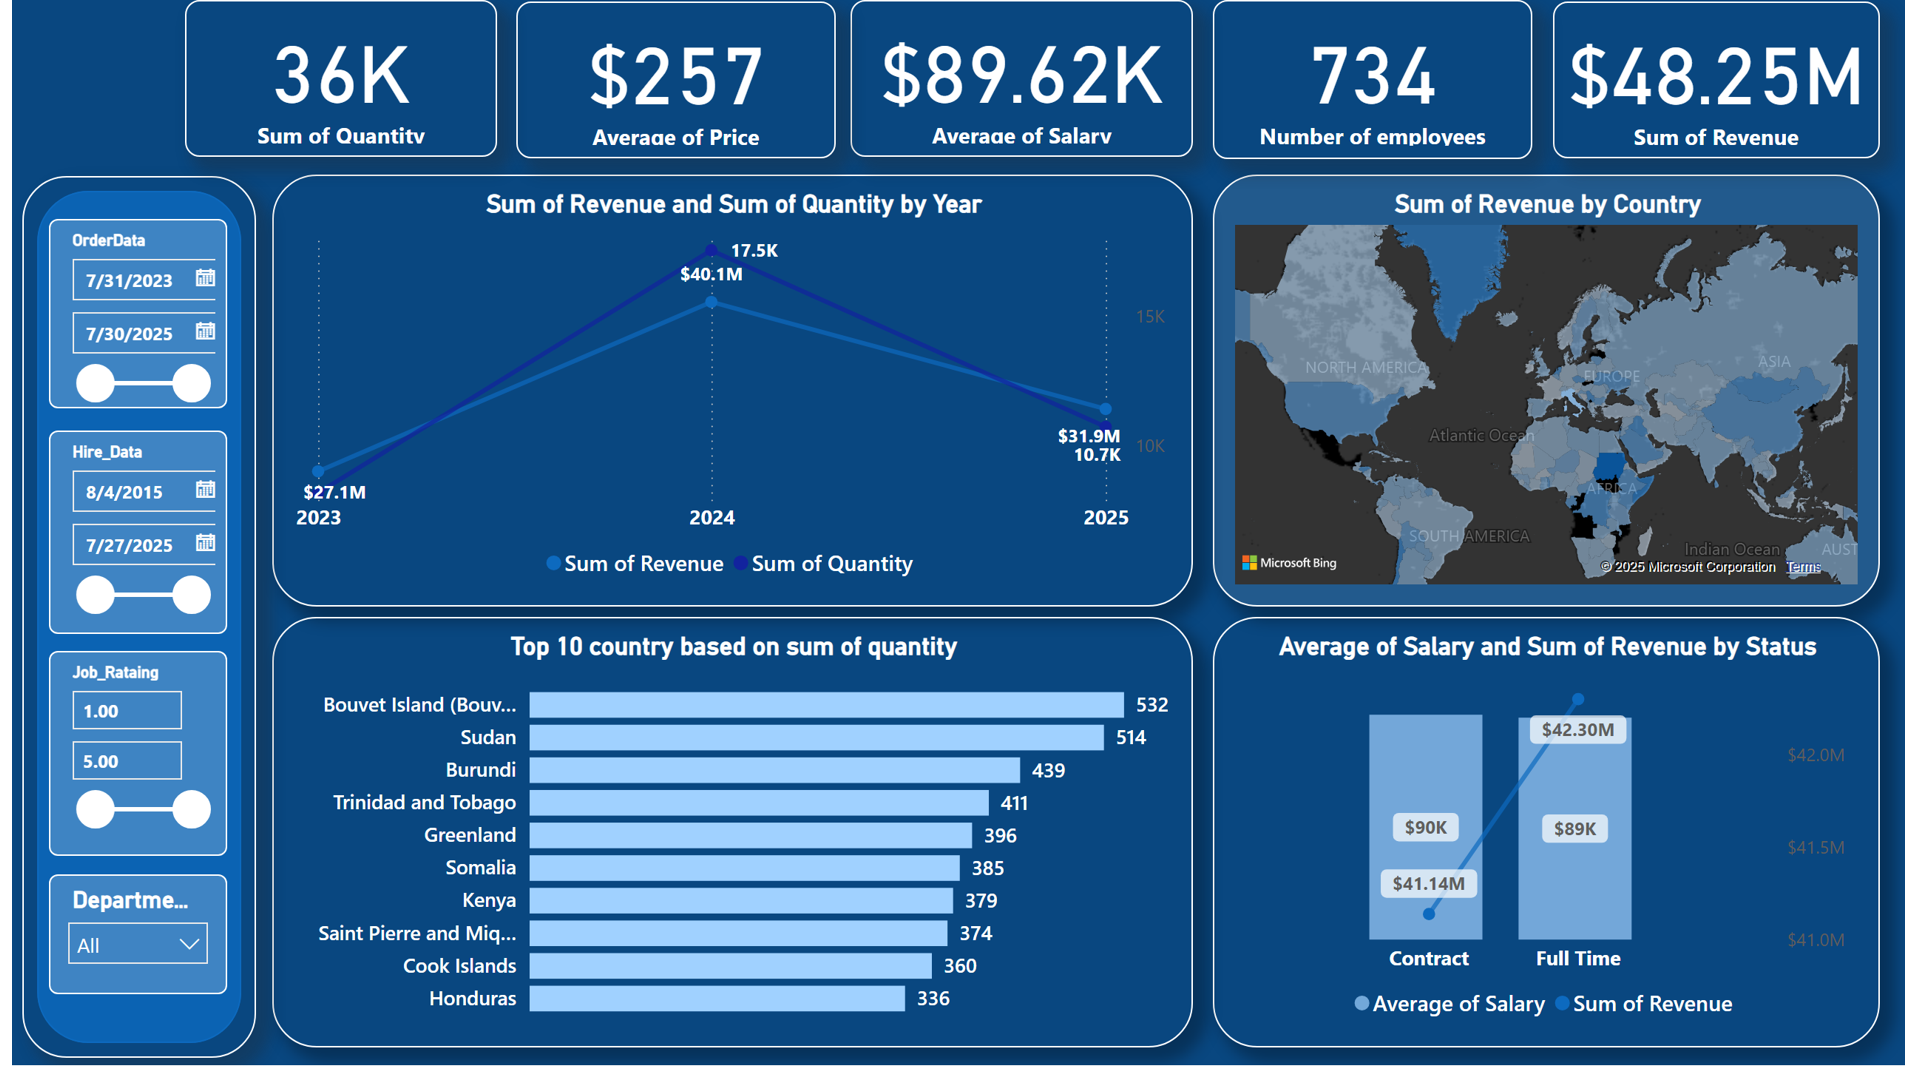

The page's visual inventory and layout, read from the dashboard file:
{"tool":"powerbi","page":{"name":"Dashboard","canvas":[1280,720],"ordinal":0},"visuals":[{"type":"filledMap","fields":{"Category":["Customers.Country"]},"box":[811.9,118.2,451.2,292],"z":0},{"type":"lineStackedColumnComboChart","fields":{"Category":["Employees.Status"],"Y":["Avg(Employees.Salary)"],"Y2":["Sum(Customers.Revenue)"]},"box":[811.9,417.4,451.2,290.8],"z":1000},{"type":"lineChart","fields":{"Category":["Orders.OrderData.Variation.Date Hierarchy.Year","Orders.OrderData.Variation.Date Hierarchy.Quarter","Orders.OrderData.Variation.Date Hierarchy.Month","Orders.OrderData.Variation.Date Hierarchy.Day"],"Y":["Sum(Customers.Revenue)"],"Y2":["Sum(Orders.Quantity)"]},"box":[176.1,118.2,622.5,292],"z":2000},{"type":"barChart","title":"Top 10 country based on sum of quantity","fields":{"Category":["Customers.Country"],"Y":["Sum(Orders.Quantity)"]},"box":[176.1,417.4,622.5,290.8],"z":3000},{"type":"shape","box":[7.2,119.4,158,596],"z":4000},{"type":"slicer","fields":{"Values":["Employees.Department"]},"box":[25.3,591.2,120.6,80.8],"z":5000},{"type":"slicer","fields":{"Values":["Employees.Hire_Data"]},"box":[25.3,290.8,120.6,137.5],"z":6000},{"type":"slicer","fields":{"Values":["Employees.Job_Rataing"]},"box":[25.3,440.4,120.6,138.7],"z":7000},{"type":"slicer","fields":{"Values":["Orders.OrderData"]},"box":[25.3,148.4,120.6,127.9],"z":8000},{"type":"card","fields":{"Values":["Sum(Customers.Revenue)"]},"box":[1042.4,1.2,220.8,106.2],"z":9000},{"type":"card","fields":{"Values":["CountNonNull(Employees.EmployeeID)"]},"box":[811.9,0,216,107.4],"z":10000},{"type":"card","fields":{"Values":["Avg(Employees.Salary)"]},"box":[567,0,231.6,106.2],"z":11000},{"type":"card","fields":{"Values":["Sum(Orders.Quantity)"]},"box":[117,0,211.1,106.2],"z":12000},{"type":"card","fields":{"Values":["Avg(Orders.Price)"]},"box":[341.4,1.2,216,106.2],"z":13000}]}

Visuals, with their boxes in screenshot pixels (x1, y1, x2, y2), scaled from the page's 1280x720 canvas onto the 1920x1080 screenshot:
filledMap - Customers.Country: box(1218, 177, 1895, 615)
lineStackedColumnComboChart - Employees.Status x Avg(Employees.Salary): box(1218, 626, 1895, 1062)
lineChart - Orders.OrderData.Variation.Date Hierarchy.Year x Orders.OrderData.Variation.Date Hierarchy.Quarter: box(264, 177, 1198, 615)
"Top 10 country based on sum of quantity" barChart: box(264, 626, 1198, 1062)
shape: box(11, 179, 248, 1073)
slicer - Employees.Department: box(38, 887, 219, 1008)
slicer - Employees.Hire_Data: box(38, 436, 219, 642)
slicer - Employees.Job_Rataing: box(38, 661, 219, 869)
slicer - Orders.OrderData: box(38, 223, 219, 414)
card - Sum(Customers.Revenue): box(1564, 2, 1895, 161)
card - CountNonNull(Employees.EmployeeID): box(1218, 0, 1542, 161)
card - Avg(Employees.Salary): box(850, 0, 1198, 159)
card - Sum(Orders.Quantity): box(176, 0, 492, 159)
card - Avg(Orders.Price): box(512, 2, 836, 161)
